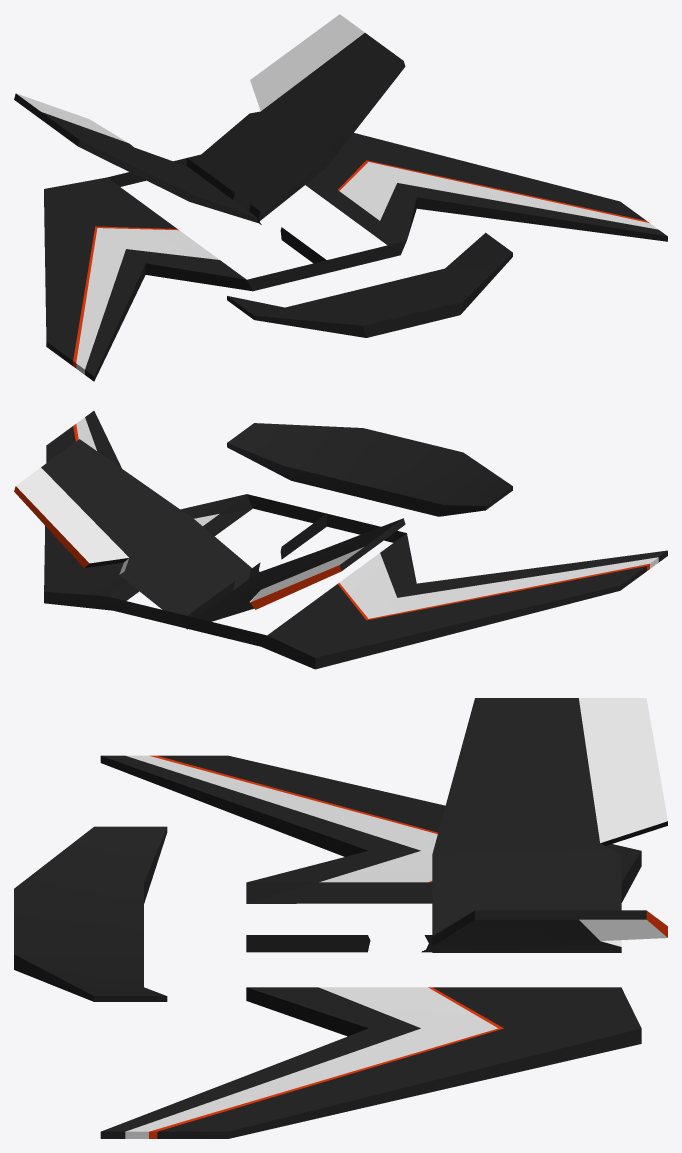
Rendered from 5_Wing.fbx.
3 renders of one model, top to bottom at view 1: azimuth 30°, elevation 25°; view 2: azimuth 150°, elevation 25°; view 3: azimuth 270°, elevation 25°, orthographic. The views are drawn at different scales.
Visible parts, largest first — view 1: 5_Wing; view 2: 5_Wing; view 3: 5_Wing.
Boxes of the visible parts, x1,y1,x2,y2 form: 5_Wing: [14, 14, 667, 381]; 5_Wing: [14, 411, 667, 669]; 5_Wing: [14, 698, 667, 1138].
Size of the model in its own units: 2.05 by 0.3837 by 1.51.
1 material, 1 textured.
